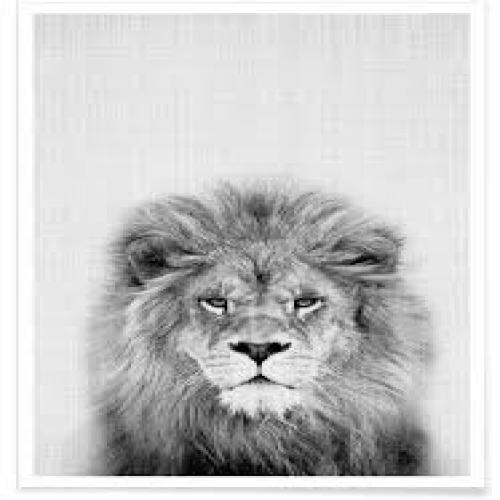lion-endangered: (83, 184, 432, 471)
